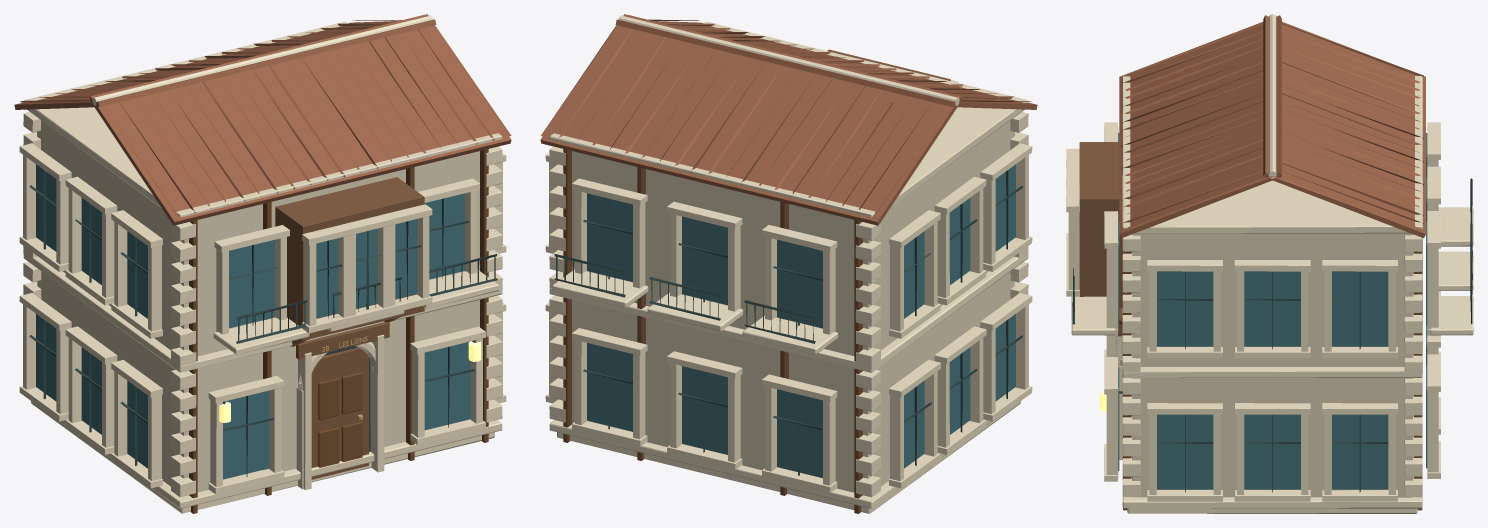
Rendered from turquie-2-lod.glb.
3 renders of one model, left to right at view 1: azimuth 30°, elevation 25°; view 2: azimuth 150°, elevation 25°; view 3: azimuth 270°, elevation 25°, orthographic. The views are drawn at different scales.
Visible parts, largest first — view 1: turquie-2_Dressed stone.001, turquie-2_Regional roof.001, turquie-2_Masonry plaster.001, turquie-2_Window blue.001, turquie-2_Regional painted wood.001, turquie-2_Walnut.001, turquie-2_Forged midnight.001; view 2: turquie-2_Dressed stone.001, turquie-2_Regional roof.001, turquie-2_Masonry plaster.001, turquie-2_Window blue.001, turquie-2_Forged midnight.001, turquie-2_Walnut.001; view 3: turquie-2_Dressed stone.001, turquie-2_Regional roof.001, turquie-2_Masonry plaster.001, turquie-2_Window blue.001, turquie-2_Regional painted wood.001, turquie-2_Forged midnight.001, turquie-2_Walnut.001.
Boxes of the visible parts, left/top/right/bottom form: turquie-2_Dressed stone.001: left=19, top=15, right=506, bottom=513; turquie-2_Regional roof.001: left=14, top=14, right=511, bottom=225; turquie-2_Masonry plaster.001: left=37, top=120, right=488, bottom=492; turquie-2_Window blue.001: left=36, top=164, right=470, bottom=479; turquie-2_Regional painted wood.001: left=275, top=177, right=424, bottom=479; turquie-2_Walnut.001: left=189, top=149, right=488, bottom=513; turquie-2_Forged midnight.001: left=29, top=170, right=497, bottom=476; turquie-2_Dressed stone.001: left=545, top=15, right=1032, bottom=513; turquie-2_Regional roof.001: left=540, top=14, right=1037, bottom=225; turquie-2_Masonry plaster.001: left=563, top=121, right=1014, bottom=492; turquie-2_Window blue.001: left=587, top=164, right=1015, bottom=477; turquie-2_Forged midnight.001: left=554, top=170, right=1022, bottom=475; turquie-2_Walnut.001: left=563, top=149, right=862, bottom=513; turquie-2_Dressed stone.001: left=1066, top=14, right=1473, bottom=513; turquie-2_Regional roof.001: left=1119, top=15, right=1425, bottom=238; turquie-2_Masonry plaster.001: left=1132, top=233, right=1413, bottom=497; turquie-2_Window blue.001: left=1118, top=133, right=1427, bottom=489; turquie-2_Regional painted wood.001: left=1079, top=142, right=1132, bottom=336; turquie-2_Forged midnight.001: left=1072, top=178, right=1472, bottom=492; turquie-2_Walnut.001: left=1119, top=251, right=1422, bottom=510.
Size of the model in its own units: 13.93 by 13.63 by 14.44.
